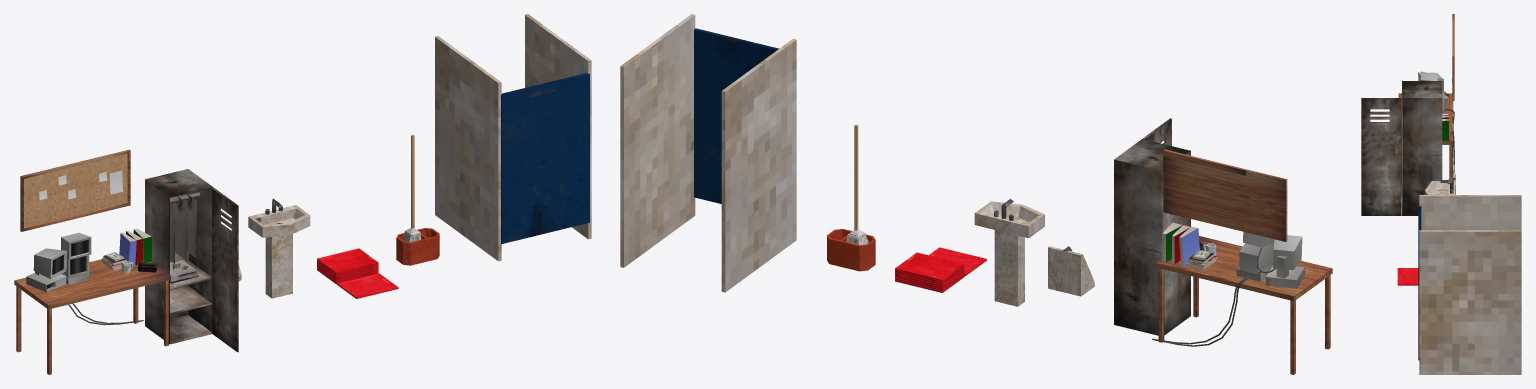
Rendered from AssetyDoGamejamu.fbx.
The picture shows the model from 3 angles, left to right: view 1: azimuth 30°, elevation 25°; view 2: azimuth 150°, elevation 25°; view 3: azimuth 270°, elevation 25°; orthographic projection. The views are drawn at different scales.
Parts seen in each view (by area): view 1: Kabina, Kabina_Drzwi, Safka, Tablica, Stół, DrzwiOdSzafki, Zlew, MOnitory, StosTacek, WiadroMopa, Tacka, Koszula.002 (+2 smaller); view 2: Kabina, Safka, Tablica, Kabina_Drzwi, Stół, Zlew, MOnitory, StosTacek, Pisuar, WiadroMopa, Mop, Tacka (+2 smaller); view 3: Kabina, Safka, DrzwiOdSzafki, Stół, Zlew, Tacka, Kabina_Drzwi, MOnitory, Tablica, Kable, Segregator.001.
Boxes of the visible parts, x1,y1,x2,y2 form: Kabina: (435, 14, 591, 261); Kabina_Drzwi: (501, 73, 589, 244); Safka: (145, 169, 213, 344); Tablica: (20, 149, 130, 231); Stół: (14, 259, 170, 374); DrzwiOdSzafki: (212, 187, 238, 352); Zlew: (248, 198, 310, 298); MOnitory: (26, 232, 91, 292); StosTacek: (317, 248, 378, 284); WiadroMopa: (396, 228, 439, 265); Tacka: (337, 273, 398, 298); Koszula.002: (171, 196, 187, 260); Kabina: (620, 14, 796, 292); Safka: (1114, 139, 1190, 335); Tablica: (1163, 149, 1287, 241); Kabina_Drzwi: (694, 28, 778, 203); Stół: (1156, 236, 1332, 374); Zlew: (974, 199, 1044, 306); MOnitory: (1236, 232, 1304, 288); StosTacek: (895, 252, 964, 292); Pisuar: (1048, 246, 1094, 296); WiadroMopa: (827, 229, 875, 271); Mop: (846, 124, 868, 245); Tacka: (929, 247, 986, 276); Kabina: (1419, 195, 1521, 374); Safka: (1402, 81, 1442, 215); DrzwiOdSzafki: (1361, 98, 1401, 215); Stół: (1398, 93, 1453, 197); Zlew: (1425, 180, 1454, 194); Tacka: (1397, 268, 1418, 285); Kabina_Drzwi: (1418, 206, 1421, 360); MOnitory: (1418, 71, 1447, 113); Tablica: (1452, 14, 1454, 100); Kable: (1442, 90, 1454, 174); Segregator.001: (1442, 119, 1448, 140).
Size of the model in its own units: 720 by 223 by 223.
